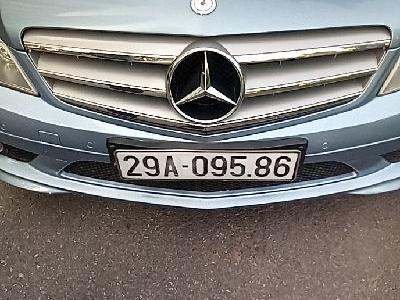car: (113, 150, 299, 182)
